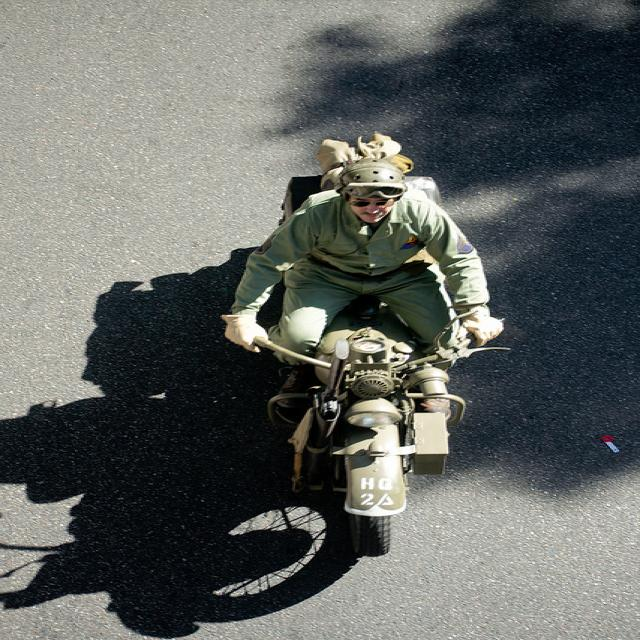motor: (262, 298, 510, 559)
